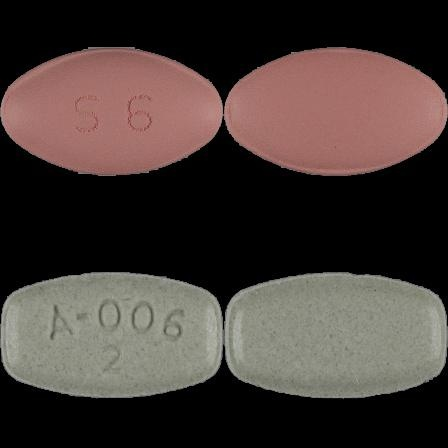63629-3385: (0, 0, 224, 224)
